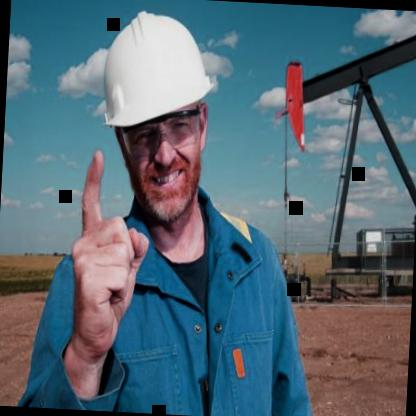helmet: (83, 0, 229, 243)
